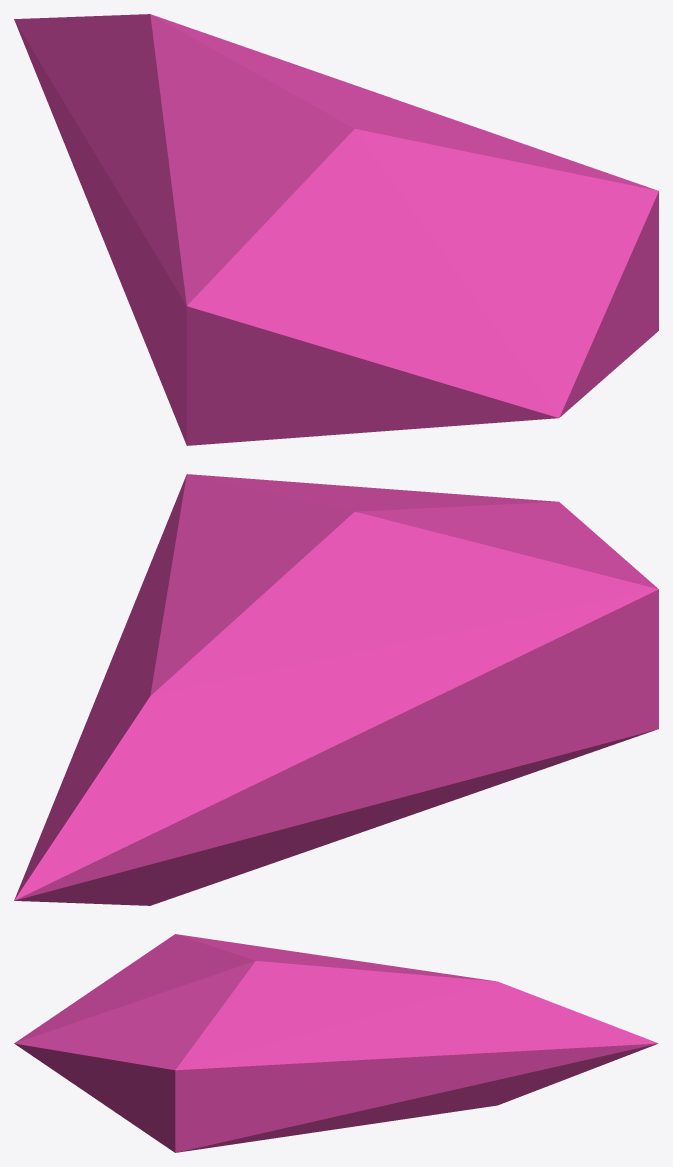
File: bird.glb
The picture shows the model from 3 angles, top to bottom: view 1: azimuth 30°, elevation 25°; view 2: azimuth 150°, elevation 25°; view 3: azimuth 270°, elevation 25°; orthographic projection. The views are drawn at different scales.
Parts seen in each view (by area): view 1: Cube; view 2: Cube; view 3: Cube.
Boxes of the visible parts, x1=… form: Cube: x1=14, y1=14, x2=658, y2=445; Cube: x1=14, y1=474, x2=658, y2=905; Cube: x1=14, y1=934, x2=658, y2=1152.
Size of the model in its own units: 1.41 by 0.8 by 2.83.
